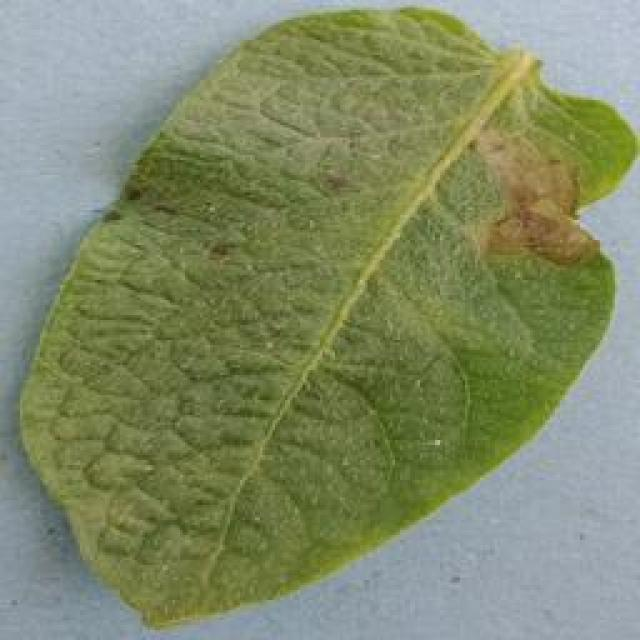Potato_Late_Blight: (15, 6, 634, 631)
